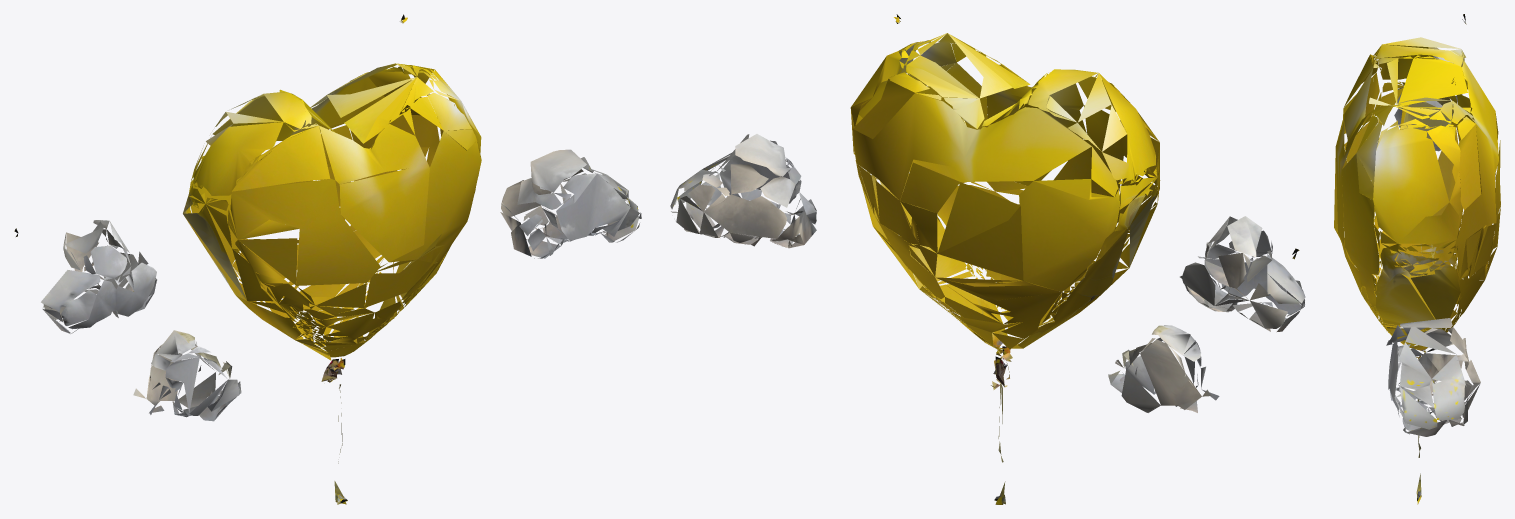
The model's file is decimate_heart_2k.glb.
3 views of the same model, side by side, from view 1: azimuth 30°, elevation 25°; view 2: azimuth 150°, elevation 25°; view 3: azimuth 270°, elevation 25° (orthographic). The views are drawn at different scales.
Visible parts, largest first — view 1: Mesh_0; view 2: Mesh_0; view 3: Mesh_0.
Part boxes in pixels (x1,y1,x2,y2): Mesh_0: [14, 14, 641, 504]; Mesh_0: [670, 14, 1305, 504]; Mesh_0: [1334, 14, 1500, 504].
Size of the model in its own units: 2.05 by 1.49 by 0.4848.
1 material, 1 textured.
